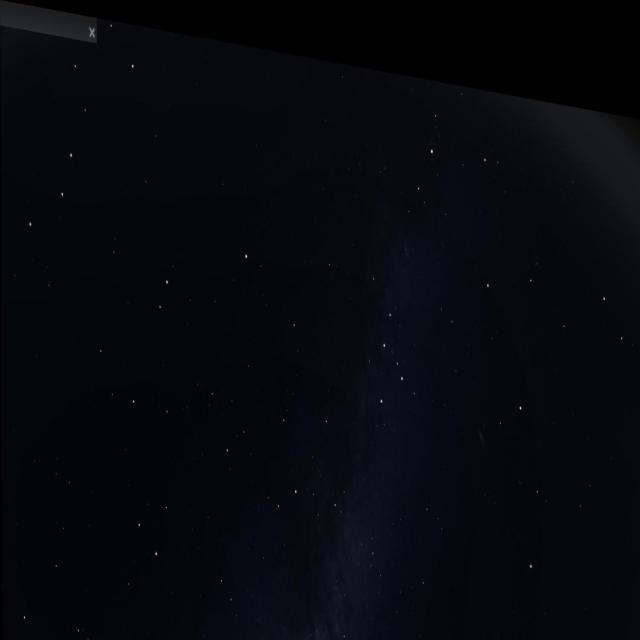cassiopeia: (351, 254, 416, 402)
ursa_major: (17, 2, 138, 252)
